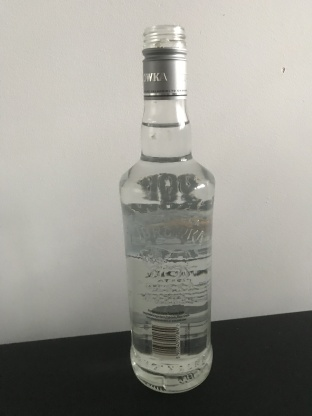nakretka: (140, 23, 188, 101)
